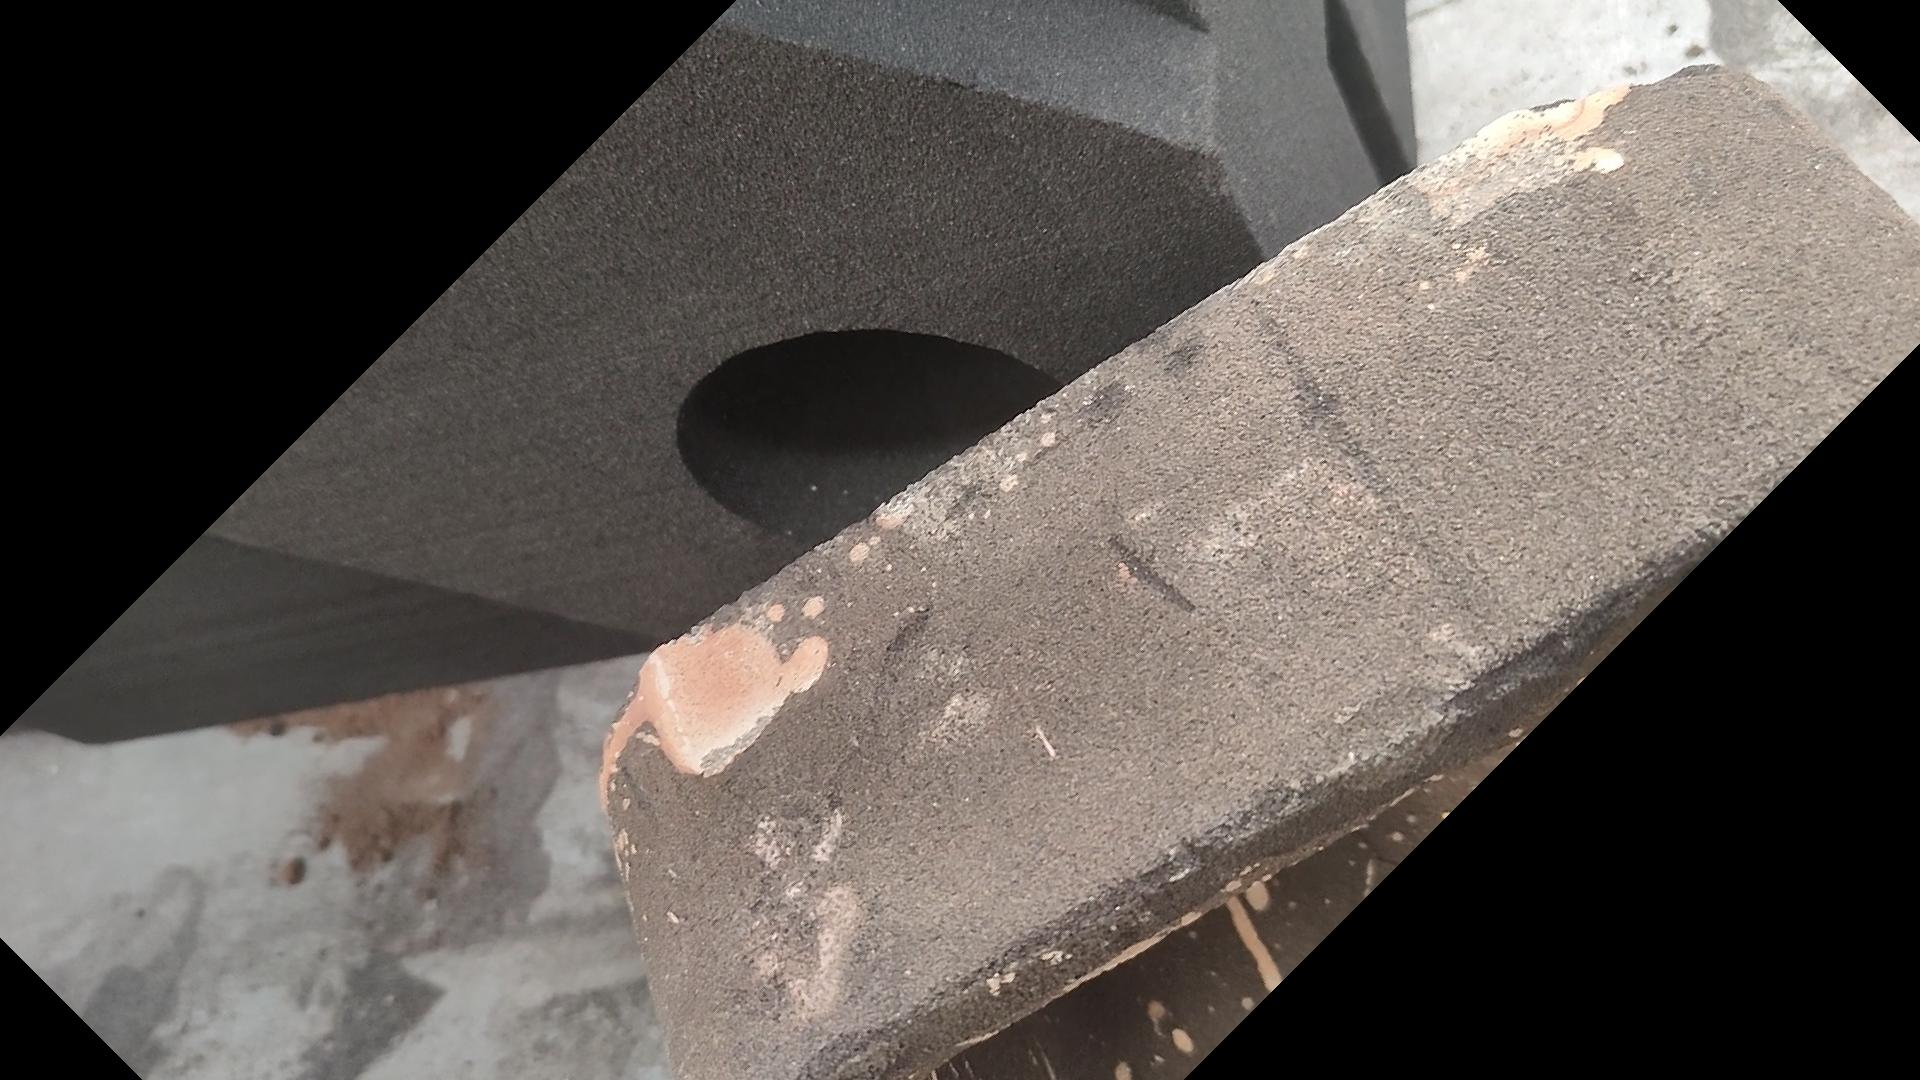pouring hole: (676, 328, 1073, 545)
